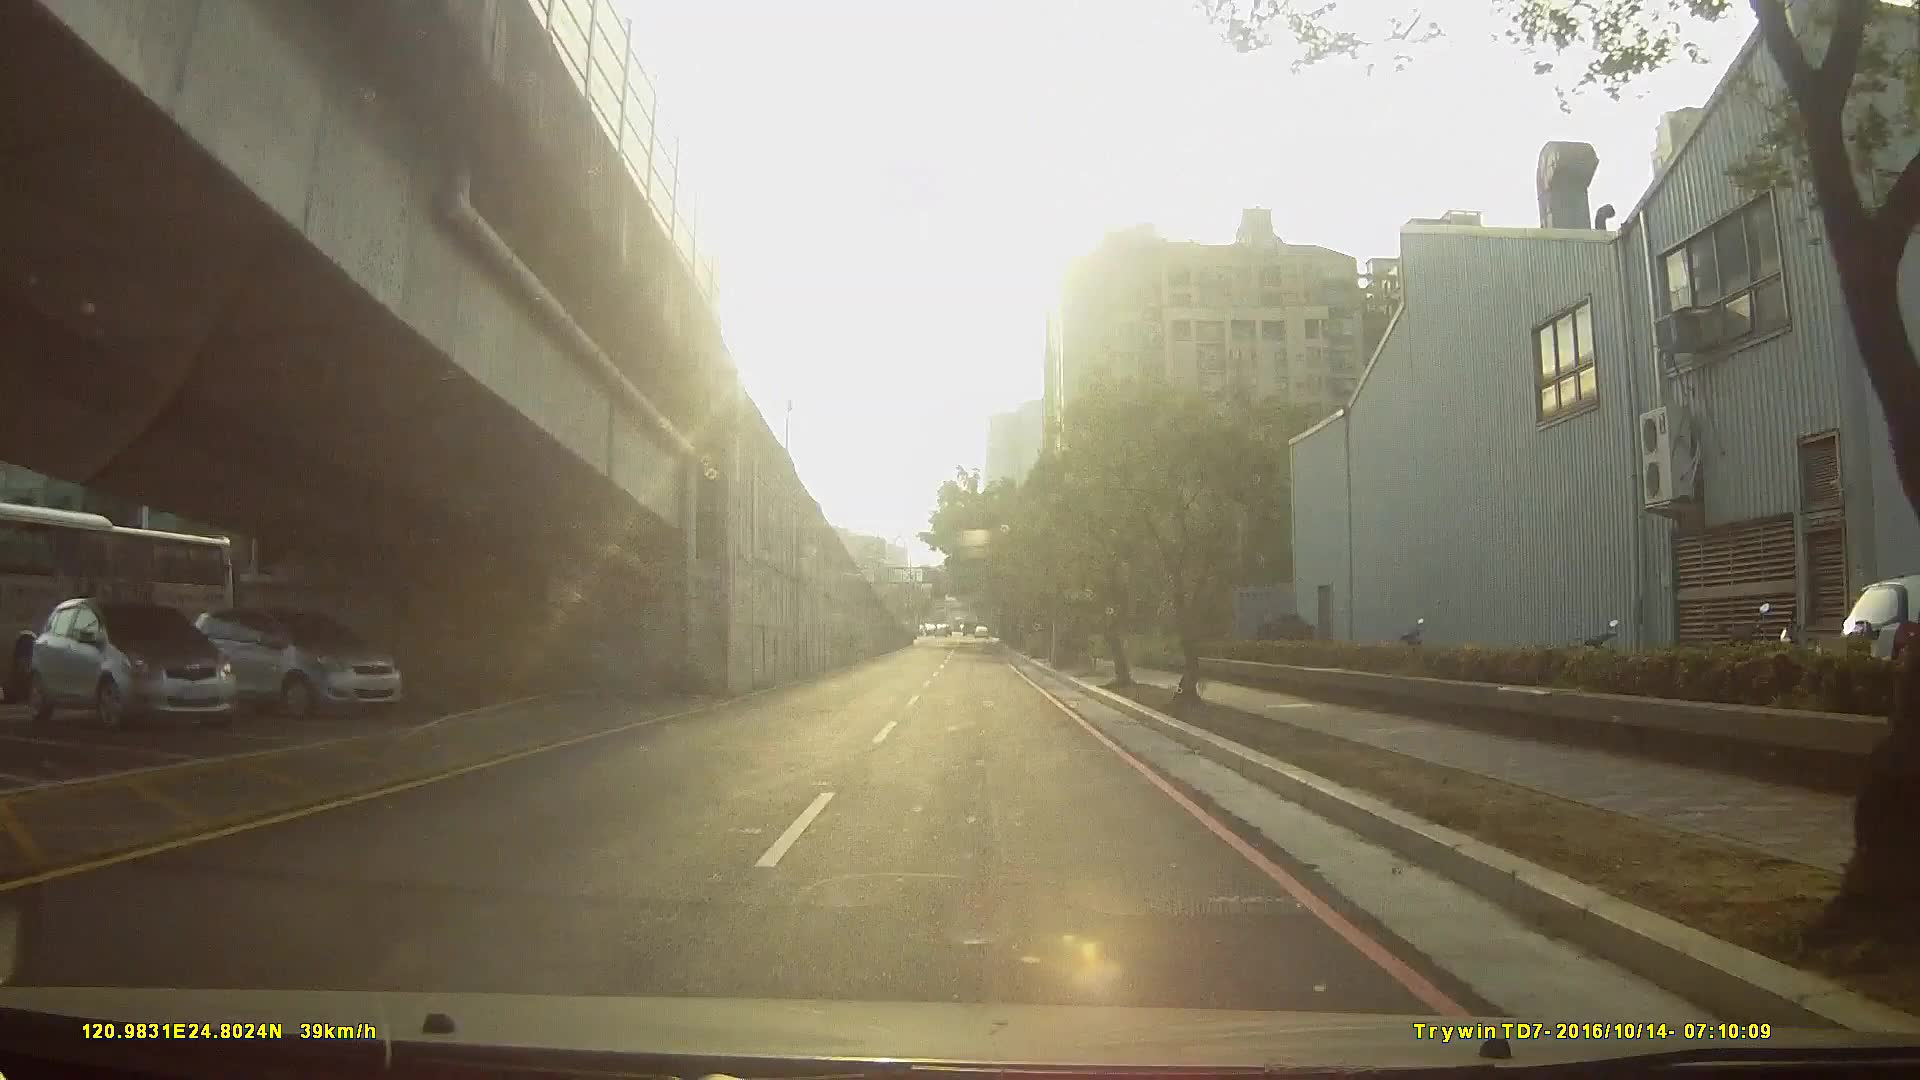vehicle: (1, 500, 247, 715), (26, 593, 236, 738), (166, 605, 417, 724)
